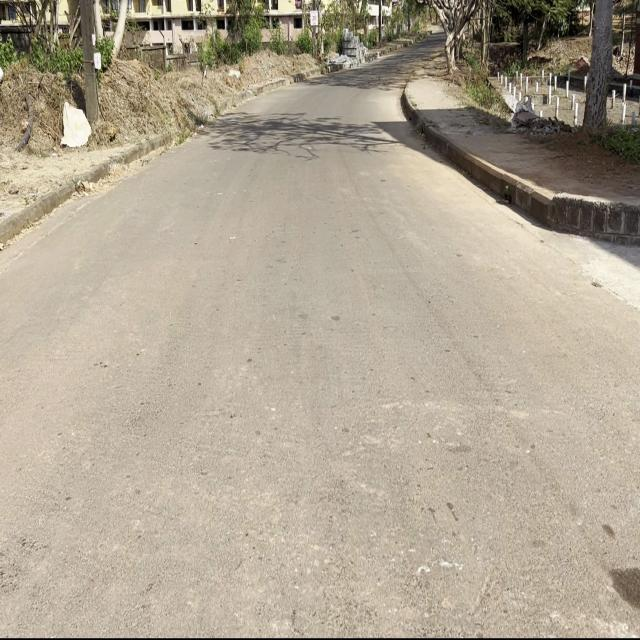Road: (0, 65, 638, 638)
